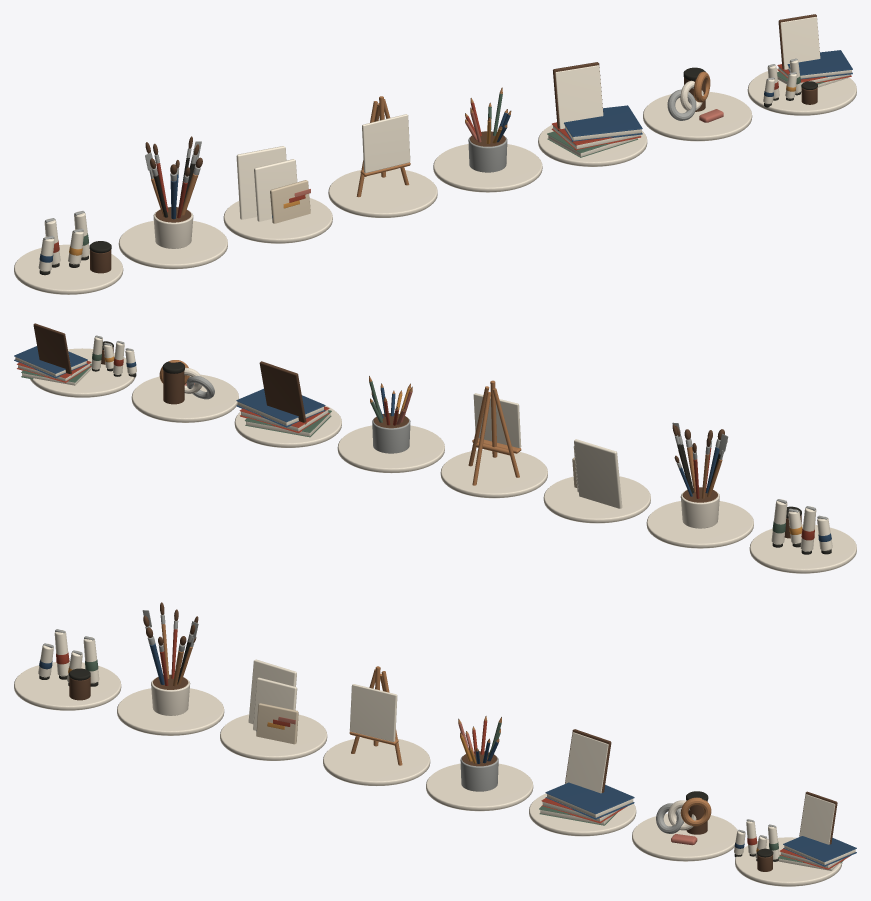
The model's file is studio.glb.
The picture shows the model from 3 angles, top to bottom: view 1: azimuth 30°, elevation 25°; view 2: azimuth 150°, elevation 25°; view 3: azimuth 330°, elevation 25°; orthographic projection.
Visible parts, largest first — view 1: easels_Cone, accessories_Cone, brushes_Cone, drawing_Cone, paints_Cone, canvas_Cone, brands_Cone, papers_Cube.010, easels_Cube.001, papers_Cone, canvas_Cube, brands_Cube.010 (+6 smaller); view 2: easels_Cone, brushes_Cone, drawing_Cone, accessories_Cone, paints_Cone, canvas_Cone, canvas_Cube, brands_Cone, papers_Cone, papers_Cube.009, easels_Cube.001, brands_Cube.009 (+5 smaller); view 3: easels_Cone, brushes_Cone, drawing_Cone, accessories_Cone, canvas_Cone, paints_Cone, easels_Cube.001, brands_Cone, papers_Cube.010, papers_Cone, papers_Cube.008, brands_Cube.010 (+7 smaller).
Boxes of the visible parts, <box> form: easels_Cone: <box>328,169,437,217</box>; accessories_Cone: <box>643,92,752,141</box>; brushes_Cone: <box>118,220,227,269</box>; drawing_Cone: <box>433,144,542,192</box>; paints_Cone: <box>14,244,123,294</box>; canvas_Cone: <box>223,198,332,243</box>; brands_Cone: <box>747,68,856,115</box>; papers_Cube.010: <box>555,65,603,128</box>; easels_Cube.001: <box>362,114,410,173</box>; papers_Cone: <box>538,125,647,166</box>; canvas_Cube: <box>236,146,286,219</box>; brands_Cube.010: <box>780,17,820,69</box>; easels_Cone: <box>440,449,547,498</box>; brushes_Cone: <box>646,501,753,548</box>; drawing_Cone: <box>337,425,444,473</box>; accessories_Cone: <box>131,374,238,422</box>; paints_Cone: <box>749,524,856,573</box>; canvas_Cone: <box>543,476,650,523</box>; canvas_Cube: <box>574,439,622,508</box>; brands_Cone: <box>30,348,135,397</box>; papers_Cone: <box>234,405,341,447</box>; papers_Cube.009: <box>259,361,306,424</box>; easels_Cube.001: <box>473,393,521,448</box>; brands_Cube.009: <box>33,323,71,375</box>; easels_Cone: <box>323,737,430,786</box>; brushes_Cone: <box>117,688,224,735</box>; drawing_Cone: <box>426,763,533,811</box>; accessories_Cone: <box>632,813,737,861</box>; canvas_Cone: <box>220,714,327,760</box>; paints_Cone: <box>14,661,121,710</box>; easels_Cube.001: <box>349,684,397,741</box>; brands_Cone: <box>735,837,842,886</box>; papers_Cube.010: <box>565,732,608,793</box>; papers_Cone: <box>529,793,636,836</box>; papers_Cube.008: <box>545,782,634,814</box>; brands_Cube.010: <box>799,794,835,844</box>.
Size of the model in its own units: 18.73 by 2.2 by 2.12.
